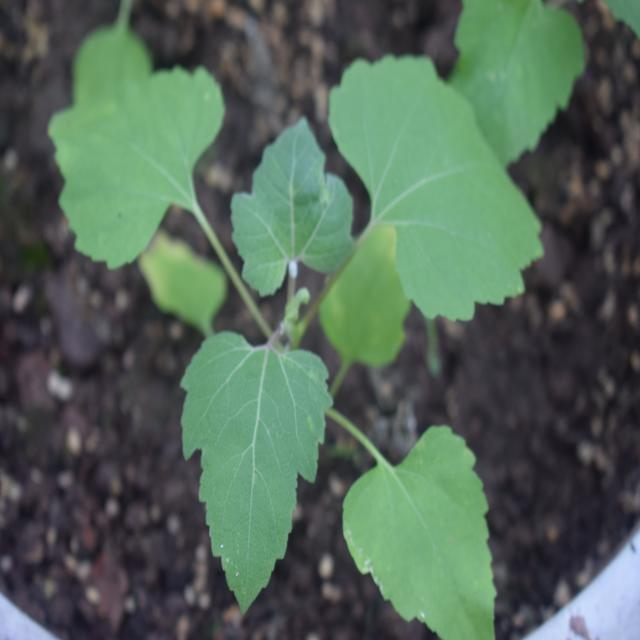cocklebur: (59, 37, 511, 596)
